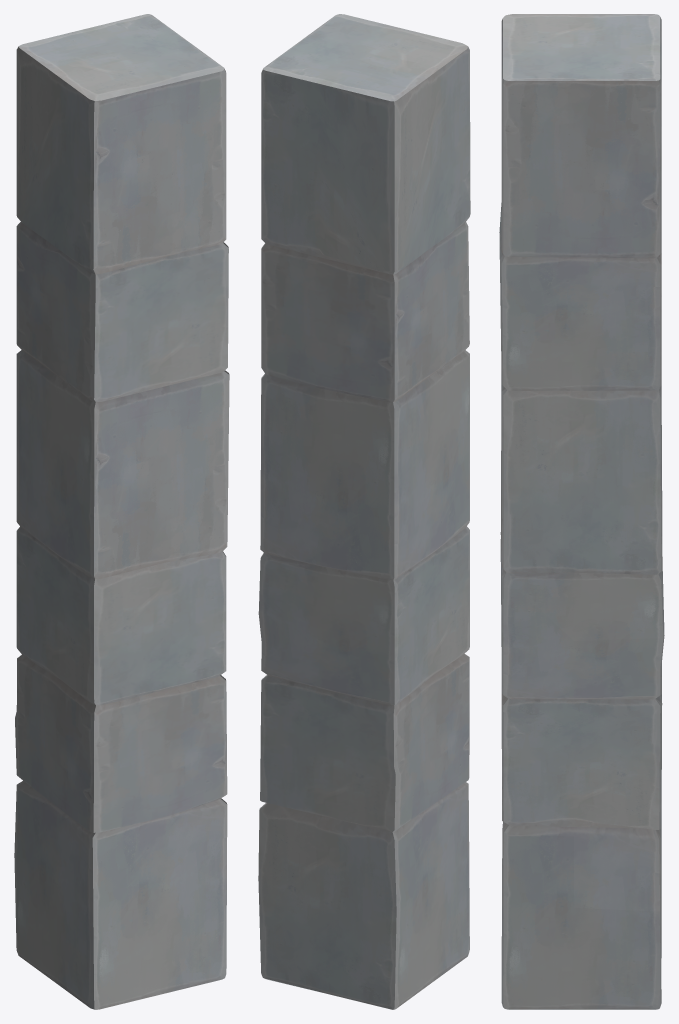
Rendered from SM_WallCorner_03.fbx.
The picture shows the model from 3 angles, left to right: view 1: azimuth 30°, elevation 25°; view 2: azimuth 150°, elevation 25°; view 3: azimuth 270°, elevation 25°; orthographic projection. The views are drawn at different scales.
Visible parts, largest first — view 1: SM_WallCorner_03_LOD0; view 2: SM_WallCorner_03_LOD0; view 3: SM_WallCorner_03_LOD0.
Part boxes in pixels (x1,y1,x2,y2): SM_WallCorner_03_LOD0: [14, 14, 229, 1009]; SM_WallCorner_03_LOD0: [258, 14, 470, 1009]; SM_WallCorner_03_LOD0: [499, 14, 664, 1009].
Size of what is drawn, in the model's own units: 72.76 by 450 by 72.24.
